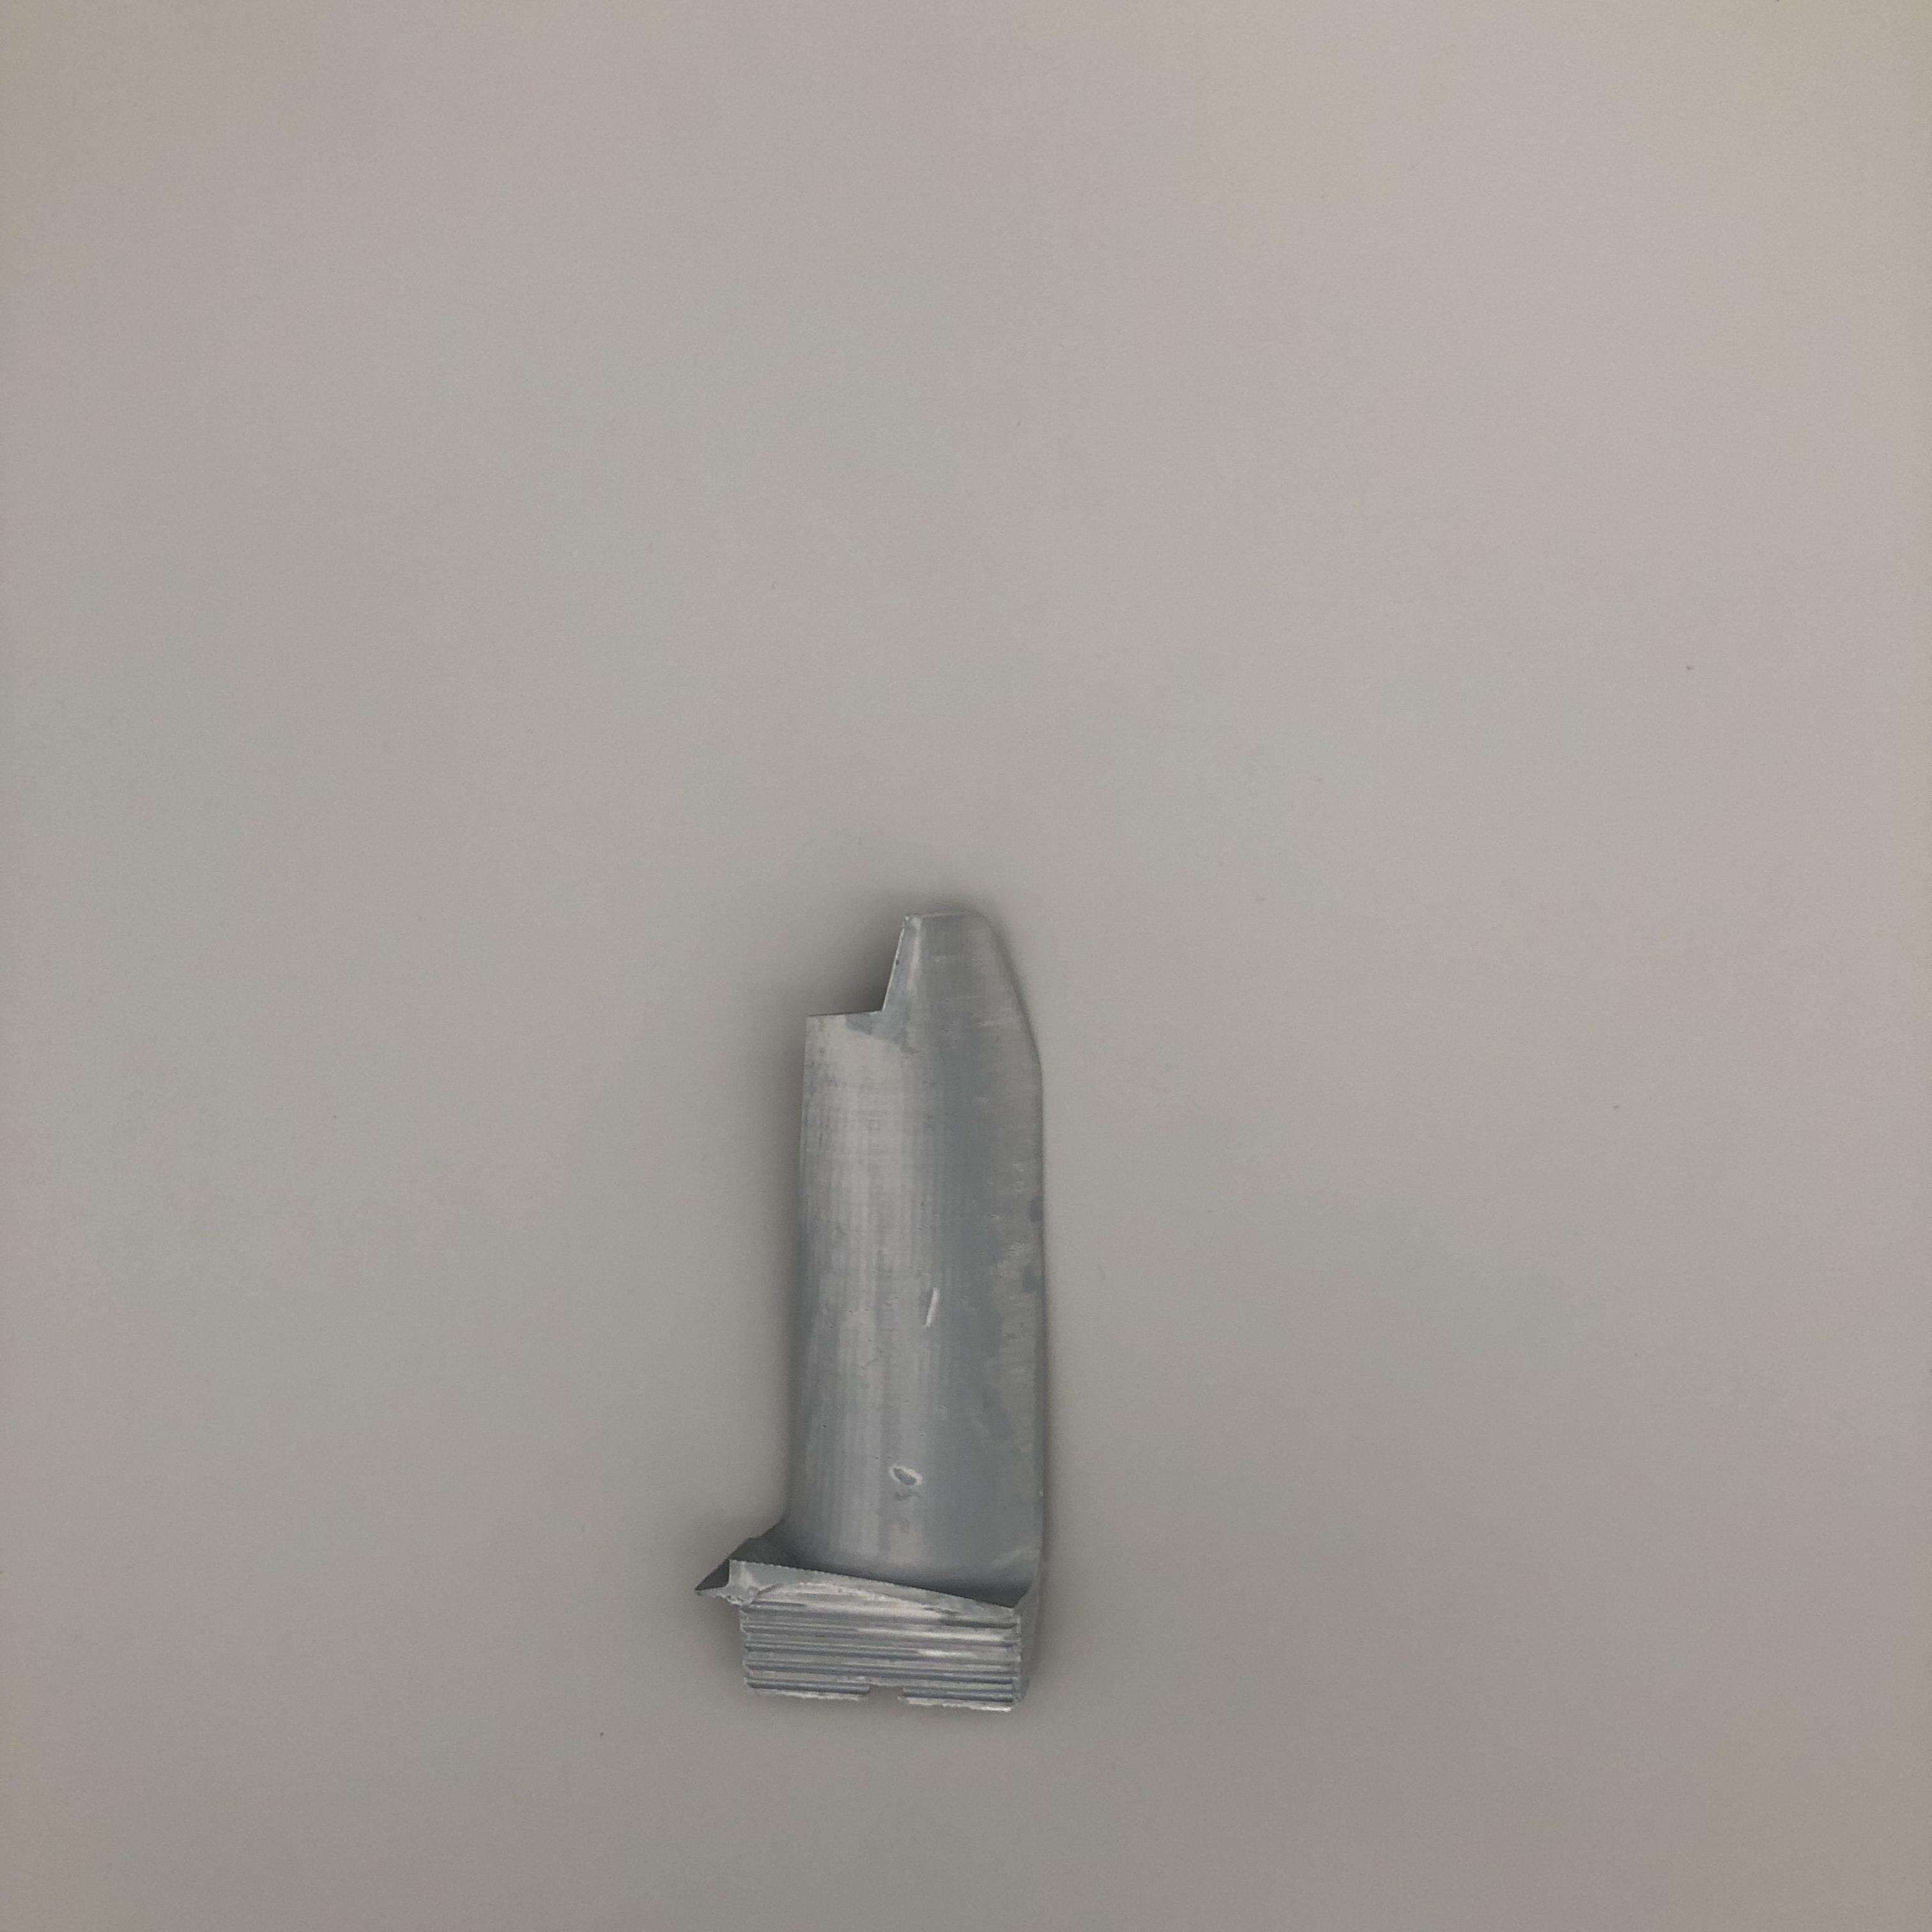fracture: (798, 920, 929, 1028)
